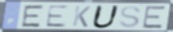E: (141, 5, 168, 30), (19, 4, 46, 28), (44, 5, 69, 28)
K: (71, 5, 92, 28)
S: (117, 5, 143, 29)
U: (90, 4, 122, 30)
